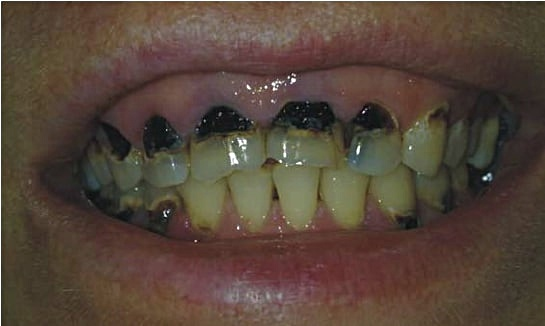karies: (193, 105, 256, 142), (273, 101, 336, 134), (95, 124, 134, 161), (352, 103, 396, 133), (143, 115, 180, 150), (149, 199, 178, 228), (426, 102, 450, 128), (440, 188, 461, 215), (396, 212, 420, 233), (194, 221, 218, 240), (114, 204, 136, 224)
